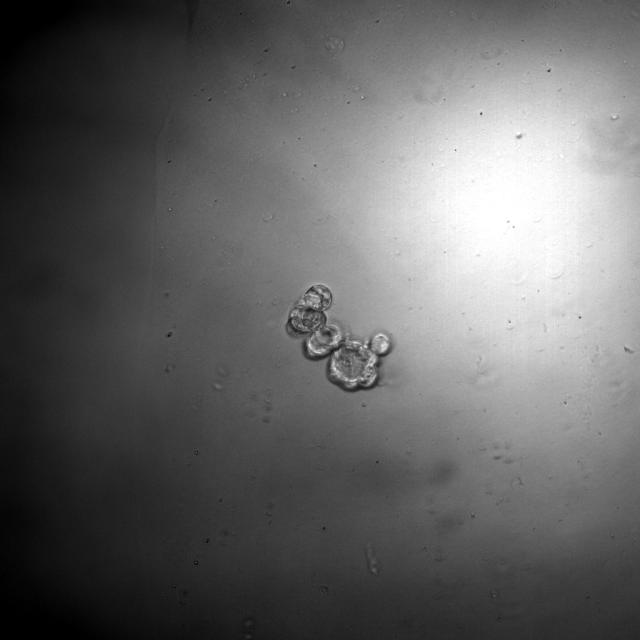organoid: (286, 284, 390, 390)
